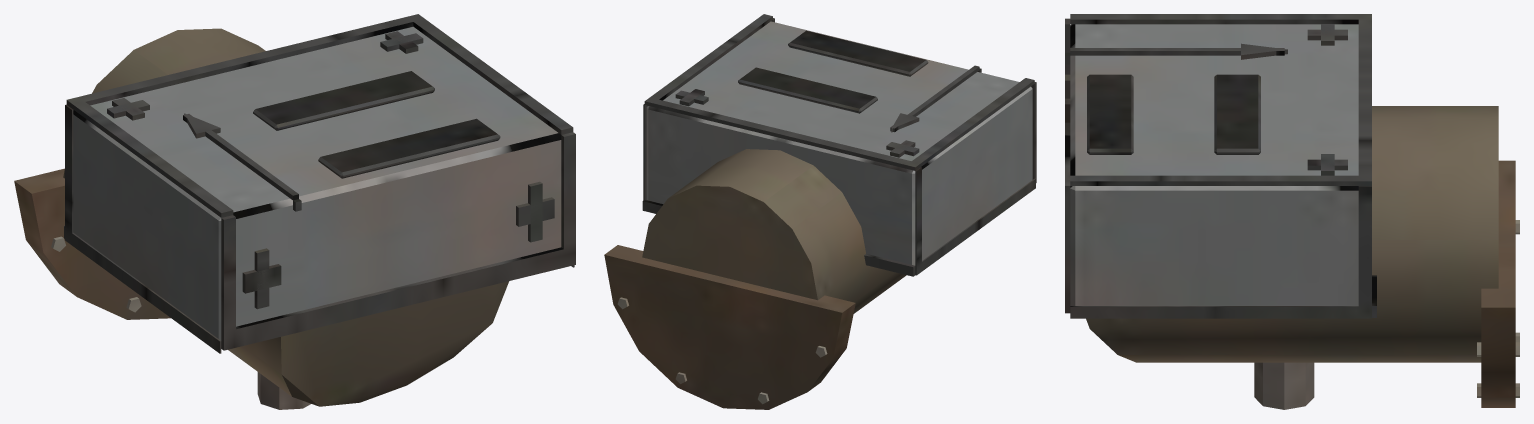
Rendered from one-way-valve.glb.
3 views of the same model, side by side, from view 1: azimuth 30°, elevation 25°; view 2: azimuth 150°, elevation 25°; view 3: azimuth 270°, elevation 25° (orthographic). The views are drawn at different scales.
Visible parts, largest first — view 1: body; view 2: body; view 3: body.
Boxes of the visible parts, x1,y1,x2,y2 form: body: (14,14,575,409); body: (604,14,1036,409); body: (1065,14,1519,409).
Size of the model in its own units: 0.932 by 0.776 by 1.06.
Materials: 1 (1 with a texture image).
